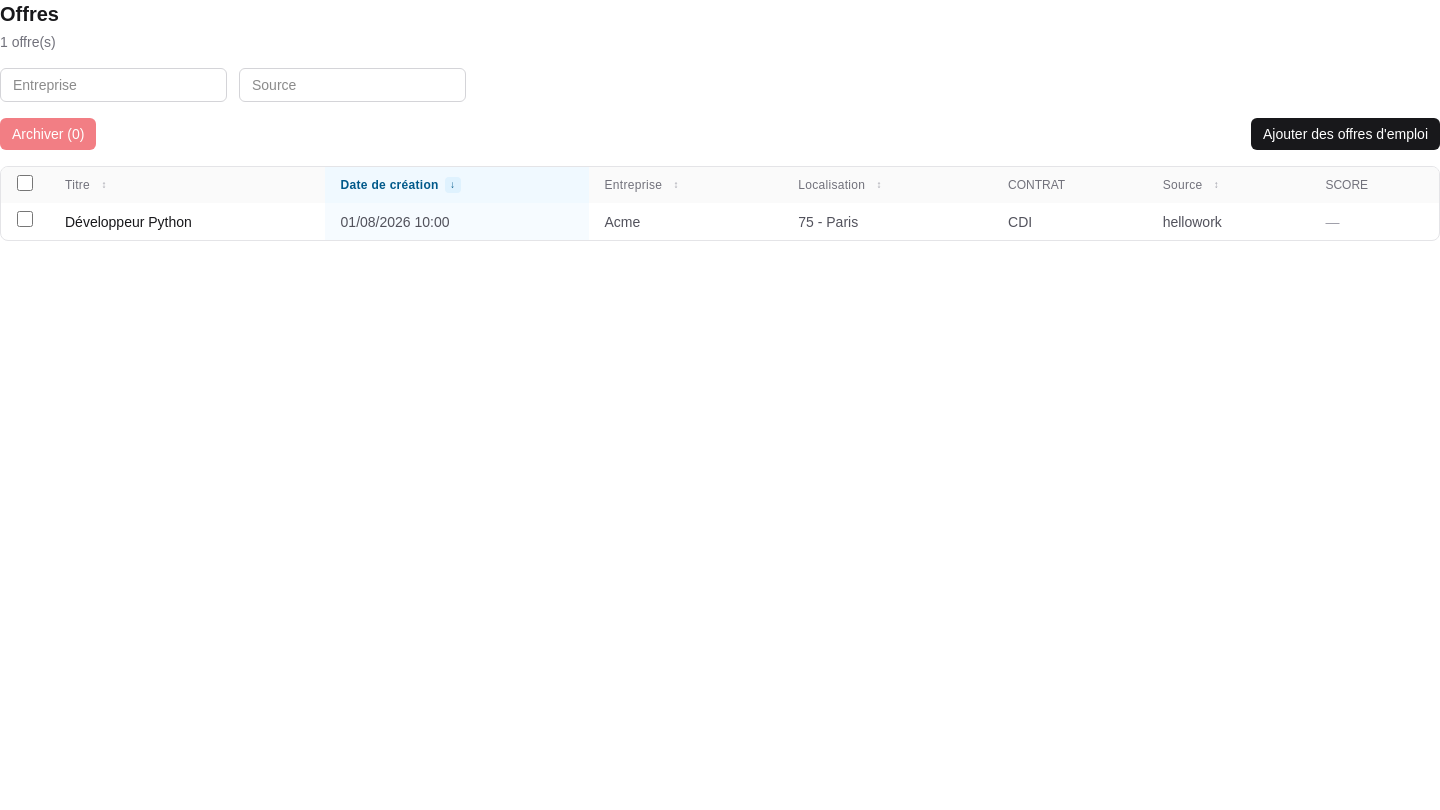
Test: OffersBrowser › affiche l'écran de chargement et verrouille la modale pendant l'ingestion
This screenshot has width=1440, height=810.
Click the button "Ajouter des offres d'emploi".
click(1345, 134)  # box [1251, 118, 1439, 150]
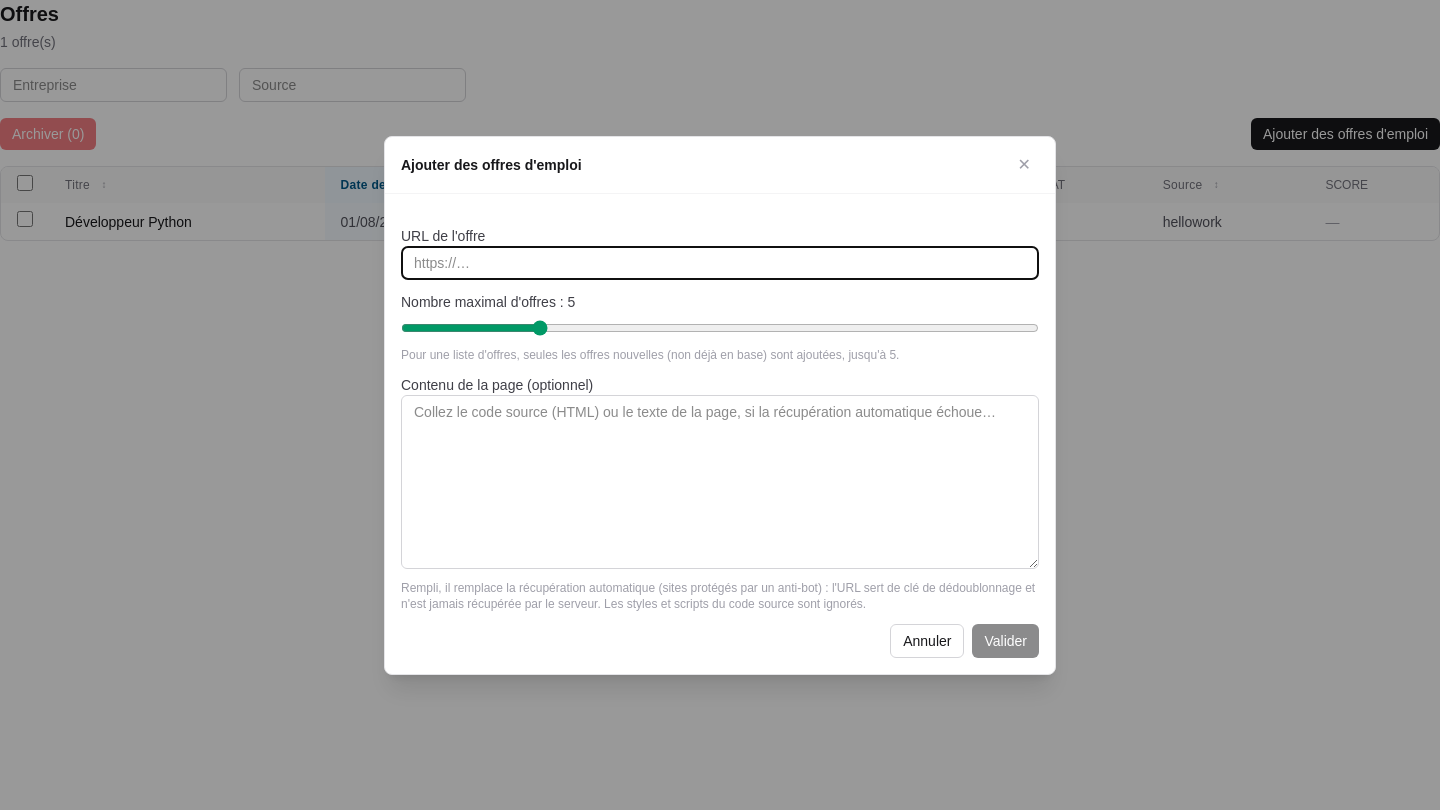
Type "https://example.com/offre/123" into the field labelled "URL de l'offre".
click(720, 262); type("https://example.com/offre/123")  # box [401, 246, 1039, 280]
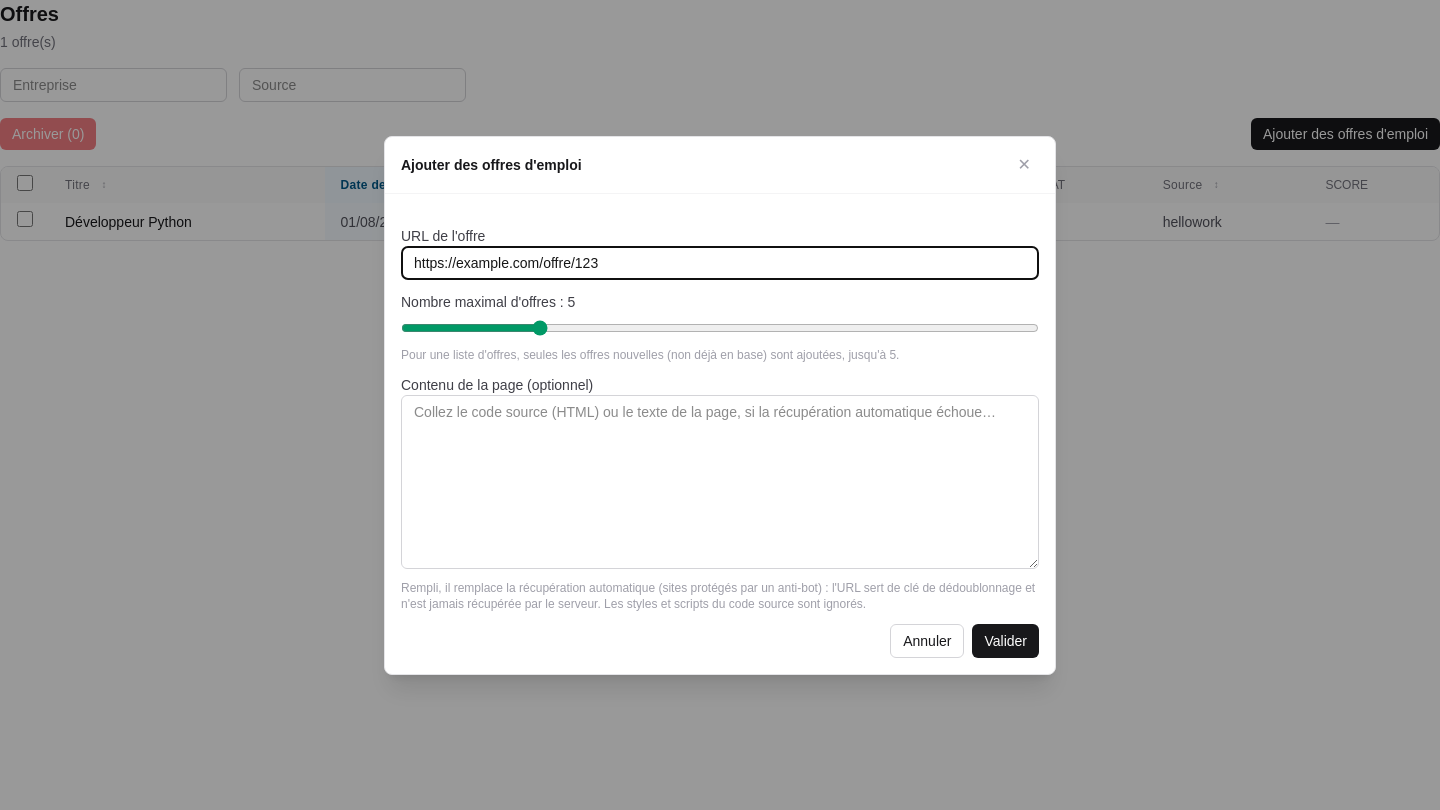
Click the button "Valider".
click(1006, 640)  # box [972, 624, 1039, 658]
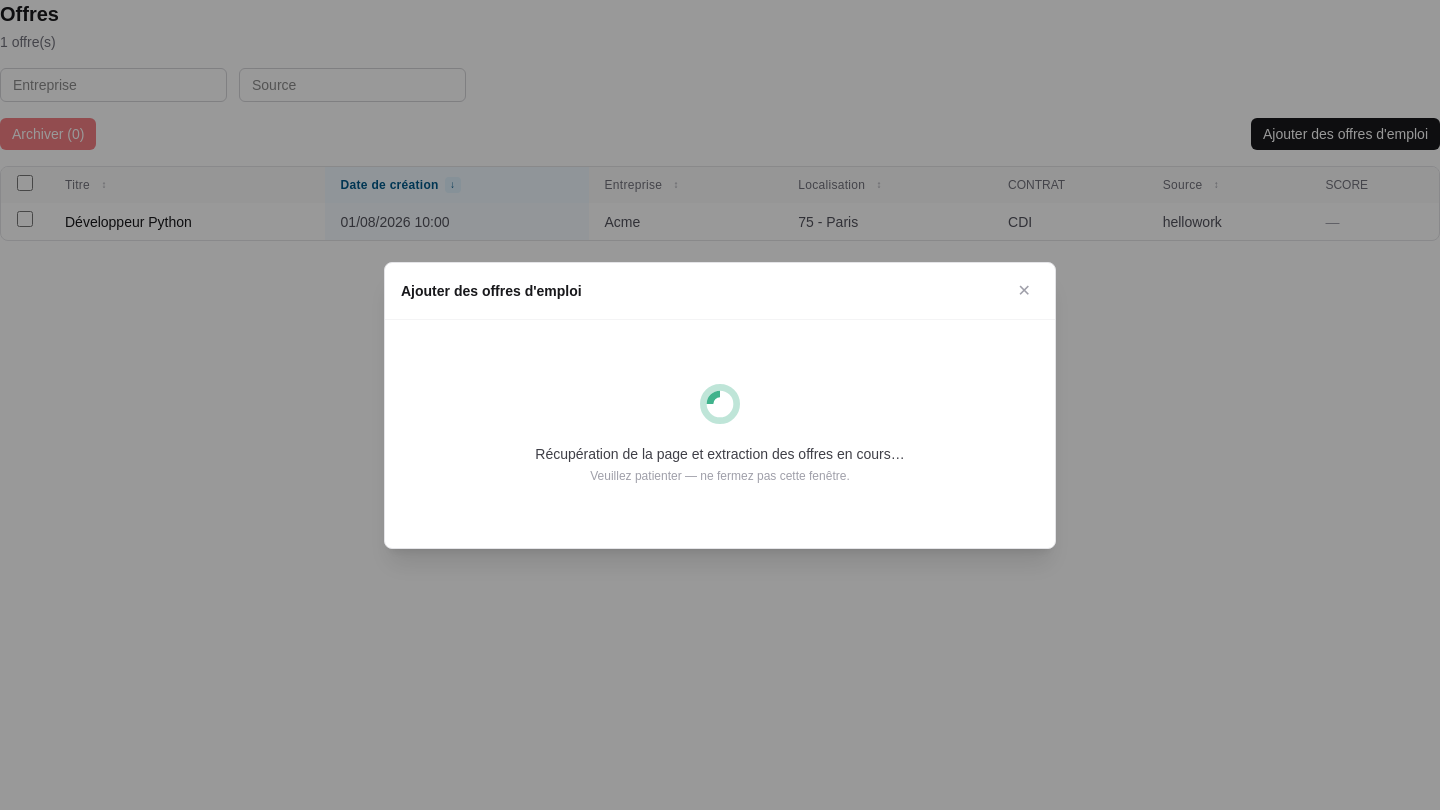
Check: the text "Récupération de la page et extraction des offres en cours…" is shown, box [535, 444, 905, 464]
Check: the label labelled "URL de l'offre" is gone
Note: Modale verrouillée : Escape ne la ferme pas pendant l'envoi.
Press Escape
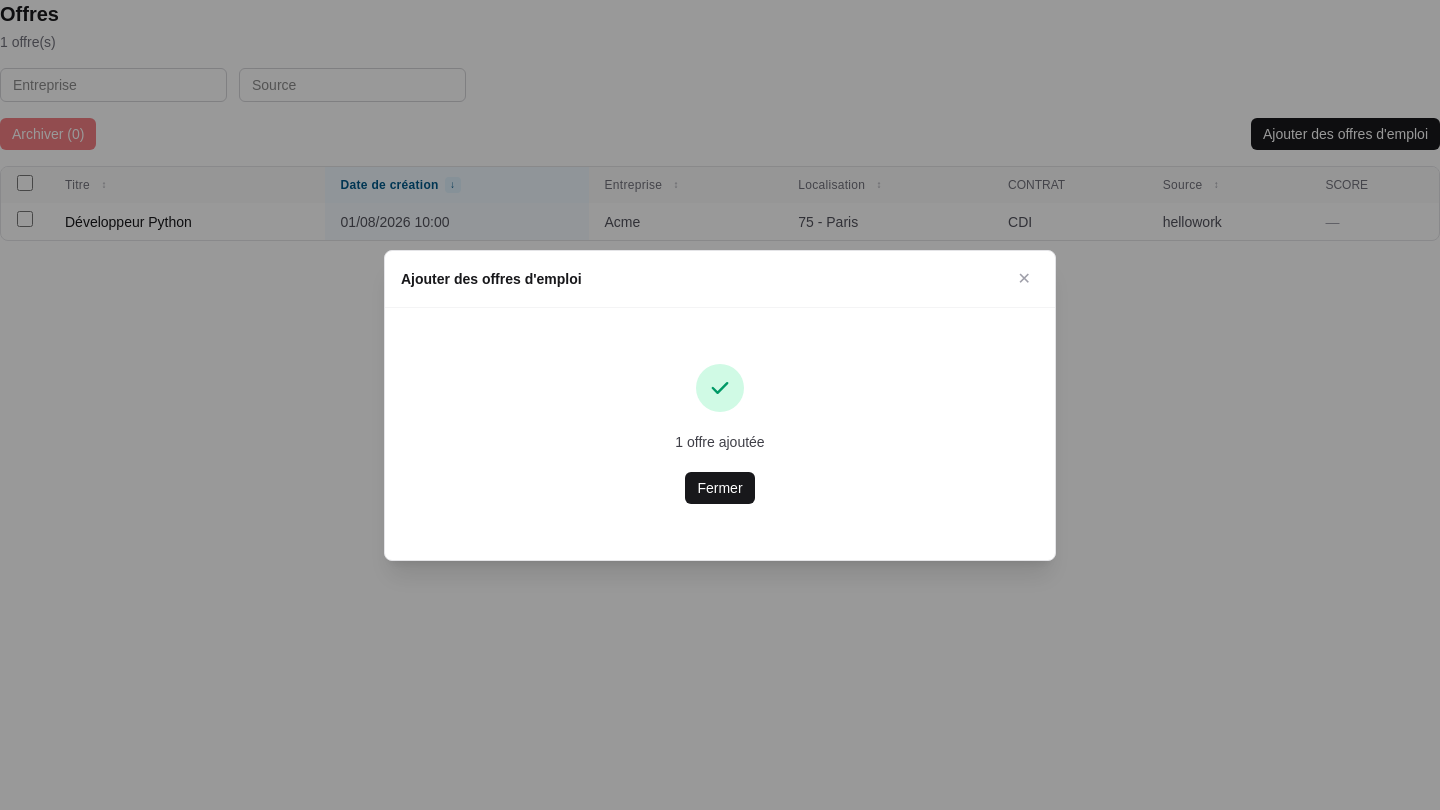
Check: the text "1 offre ajoutée" is shown, box [675, 432, 765, 452]
Check: the text "Récupération de la page et extraction des offres en cours…" is gone
